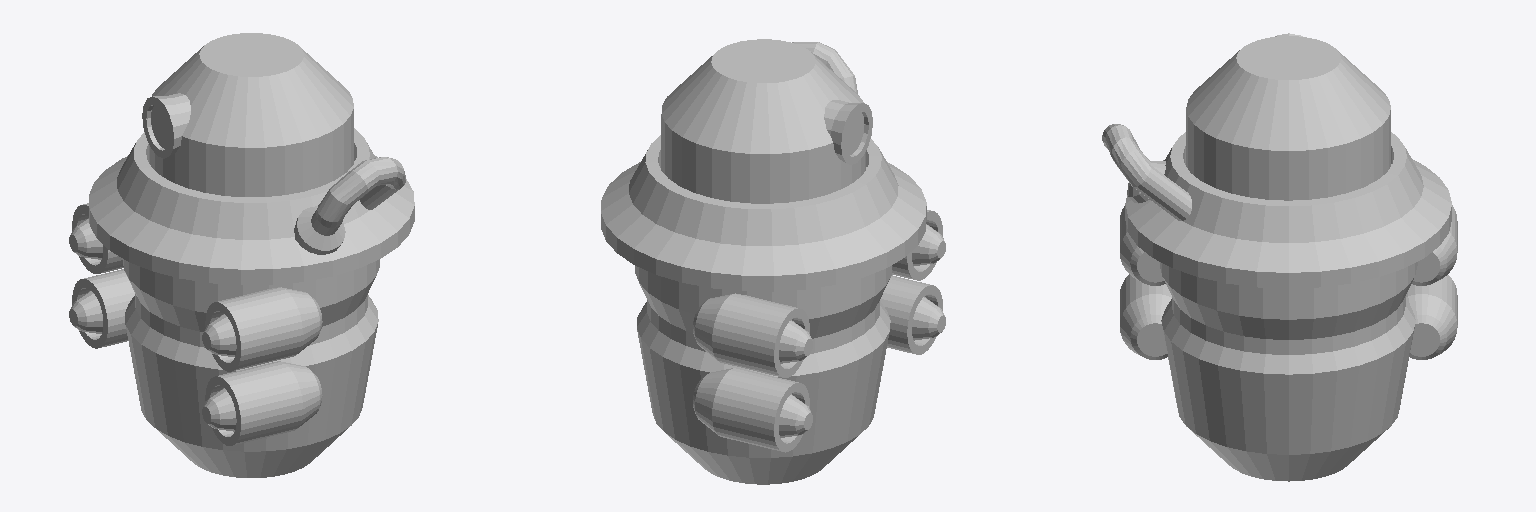
File: bigGuy_unwrapped.obj
The picture shows the model from 3 angles: view 1: azimuth 30°, elevation 25°; view 2: azimuth 150°, elevation 25°; view 3: azimuth 270°, elevation 25°; orthographic projection.
Parts seen in each view (by area): view 1: Cylinder.013_Cylinder.034; view 2: Cylinder.013_Cylinder.034; view 3: Cylinder.013_Cylinder.034.
Boxes of the visible parts, <box> form: Cylinder.013_Cylinder.034: <box>69,33,414,477</box>; Cylinder.013_Cylinder.034: <box>601,39,945,484</box>; Cylinder.013_Cylinder.034: <box>1102,33,1457,481</box>.
Bounding box in the file's own units: 3.19 × 4.26 × 3.47.